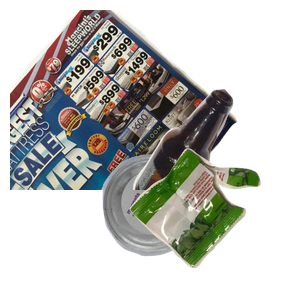glass: (130, 87, 300, 267)
paper: (10, 10, 240, 190)
plastic: (100, 152, 293, 300)
trash: (127, 146, 300, 300)
